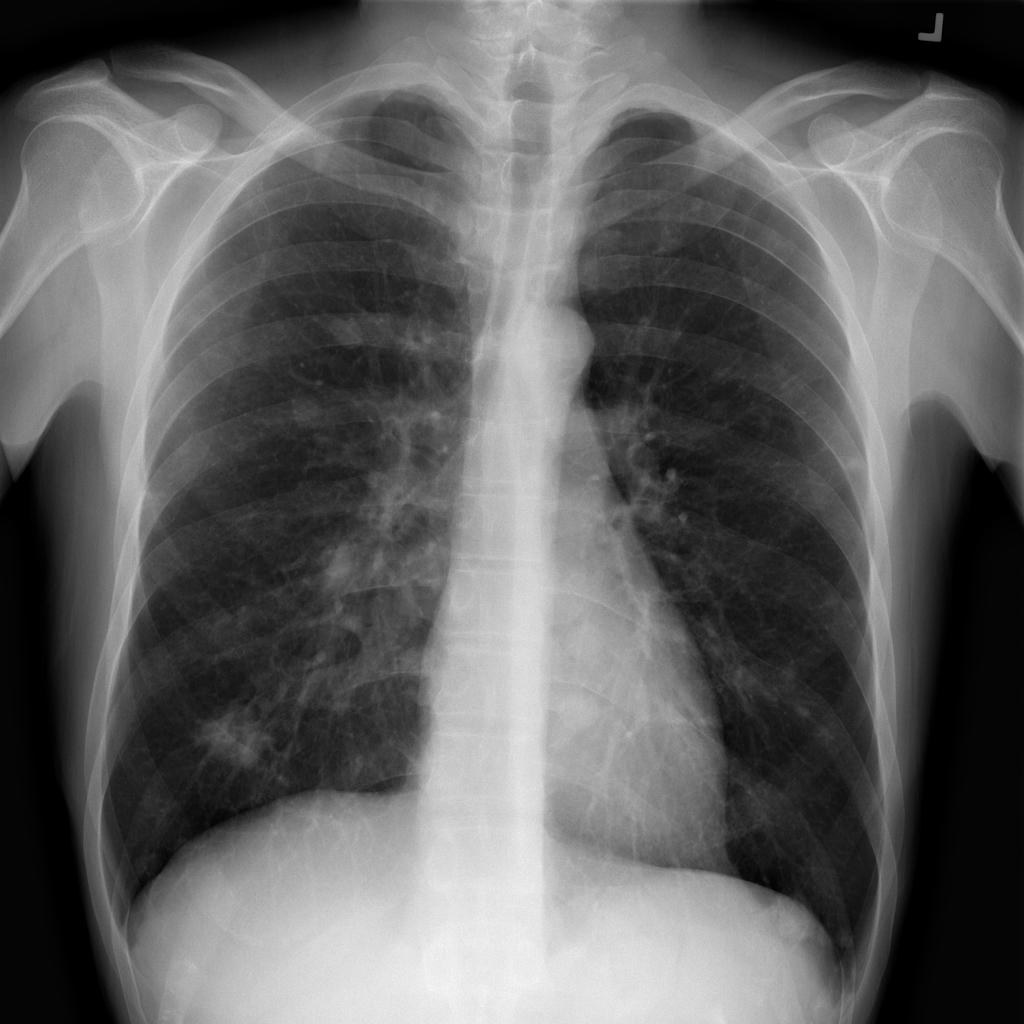nodule: (180, 676, 294, 787), (755, 876, 832, 956), (811, 433, 885, 504), (554, 608, 626, 679), (542, 677, 614, 748), (274, 375, 340, 440), (324, 304, 374, 358), (311, 537, 363, 584)
